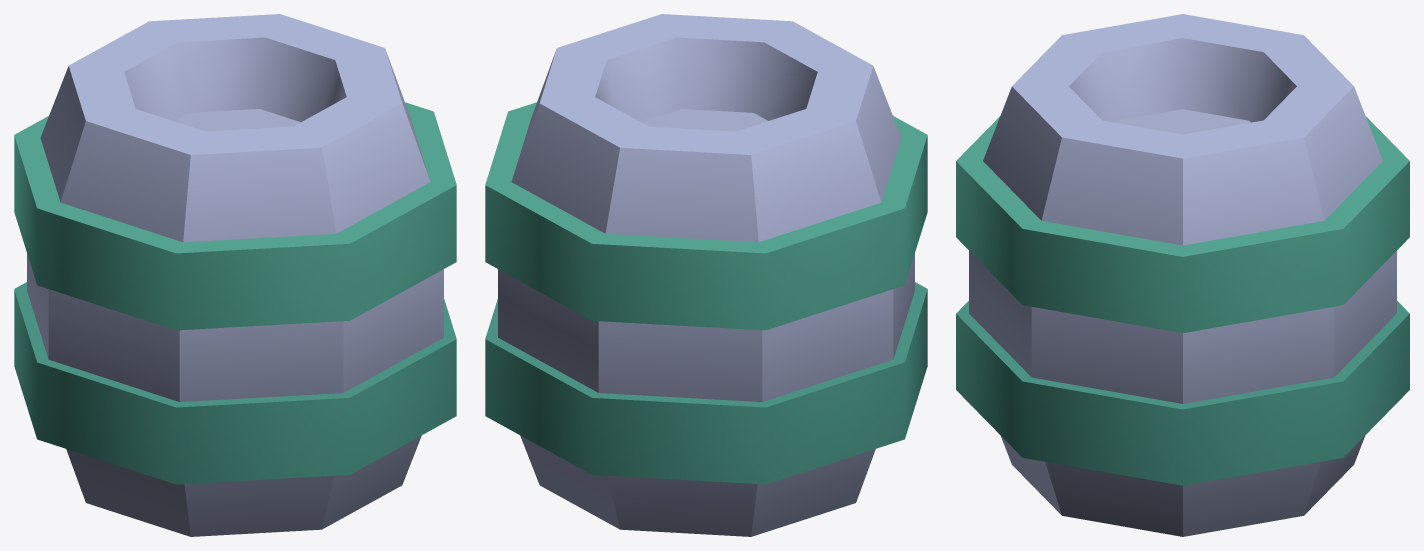
File: barrel.glb
3 renders of one model, left to right at view 1: azimuth 30°, elevation 25°; view 2: azimuth 150°, elevation 25°; view 3: azimuth 270°, elevation 25°, orthographic.
Parts seen in each view (by area): view 1: barrel; view 2: barrel; view 3: barrel.
Part boxes in pixels (left/top/right/bottom): barrel: left=14, top=14, right=456, bottom=536; barrel: left=485, top=14, right=927, bottom=536; barrel: left=956, top=14, right=1409, bottom=536.
Bounding box in the file's own units: 0.5176 × 0.4762 × 0.5176.
